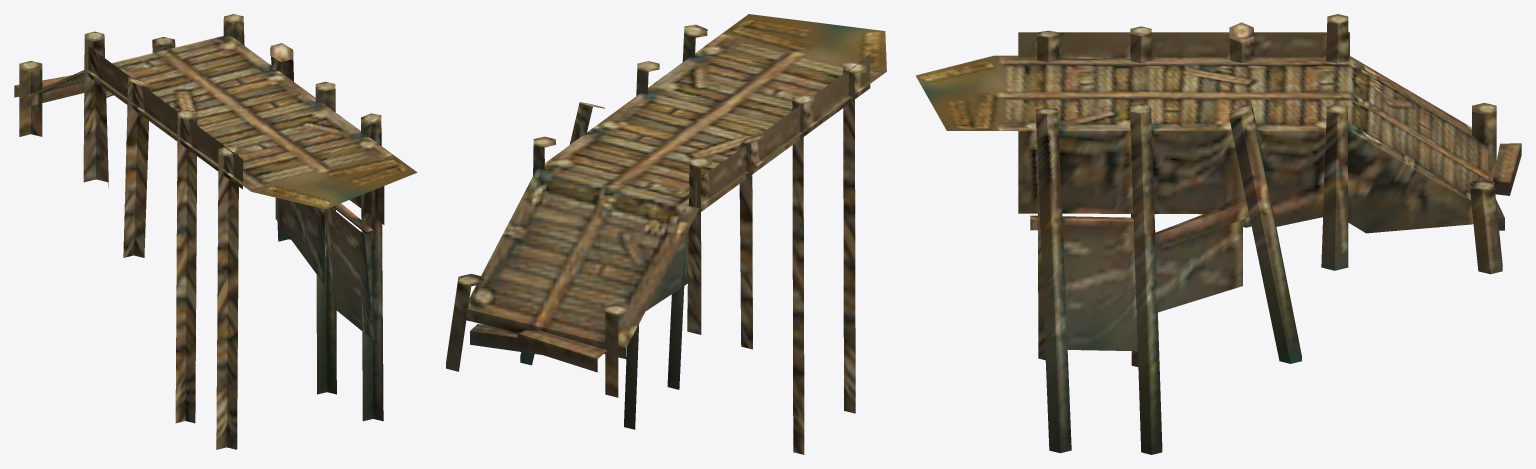
Rendered from T_B_WoodBridge_01.fbx.
3 renders of one model, left to right at view 1: azimuth 30°, elevation 25°; view 2: azimuth 150°, elevation 25°; view 3: azimuth 270°, elevation 25°, orthographic. The views are drawn at different scales.
Visible parts, largest first — view 1: T_B_WoodBridge_01; view 2: T_B_WoodBridge_01; view 3: T_B_WoodBridge_01.
Boxes of the visible parts, <box> form: T_B_WoodBridge_01: <box>14,14,417,449</box>; T_B_WoodBridge_01: <box>446,14,886,454</box>; T_B_WoodBridge_01: <box>915,14,1521,454</box>.
Bounding box in the file's own units: 3.89 × 6.37 × 9.85.
Materials: 1 (1 with a texture image).
